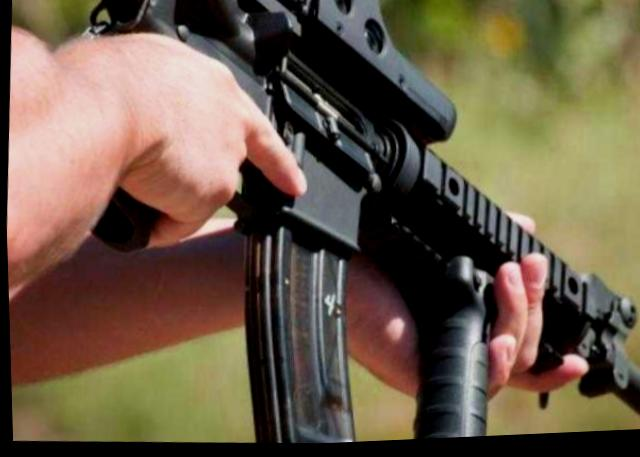rifle: (65, 0, 640, 455)
